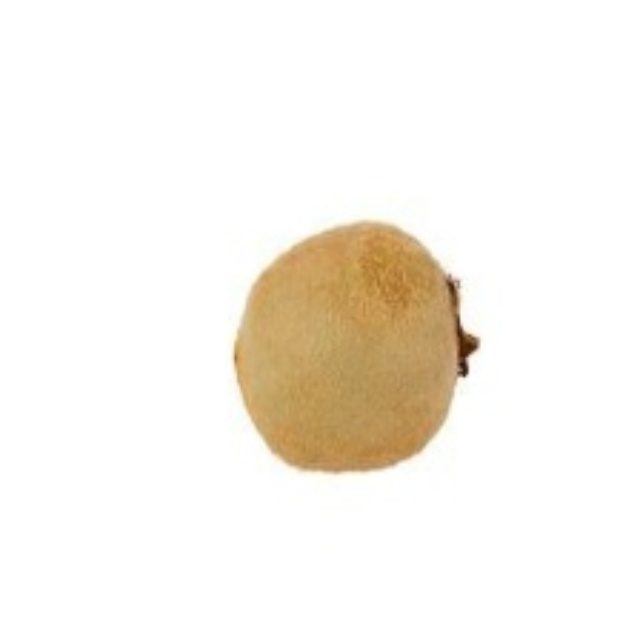kiwi: (231, 212, 467, 476)
